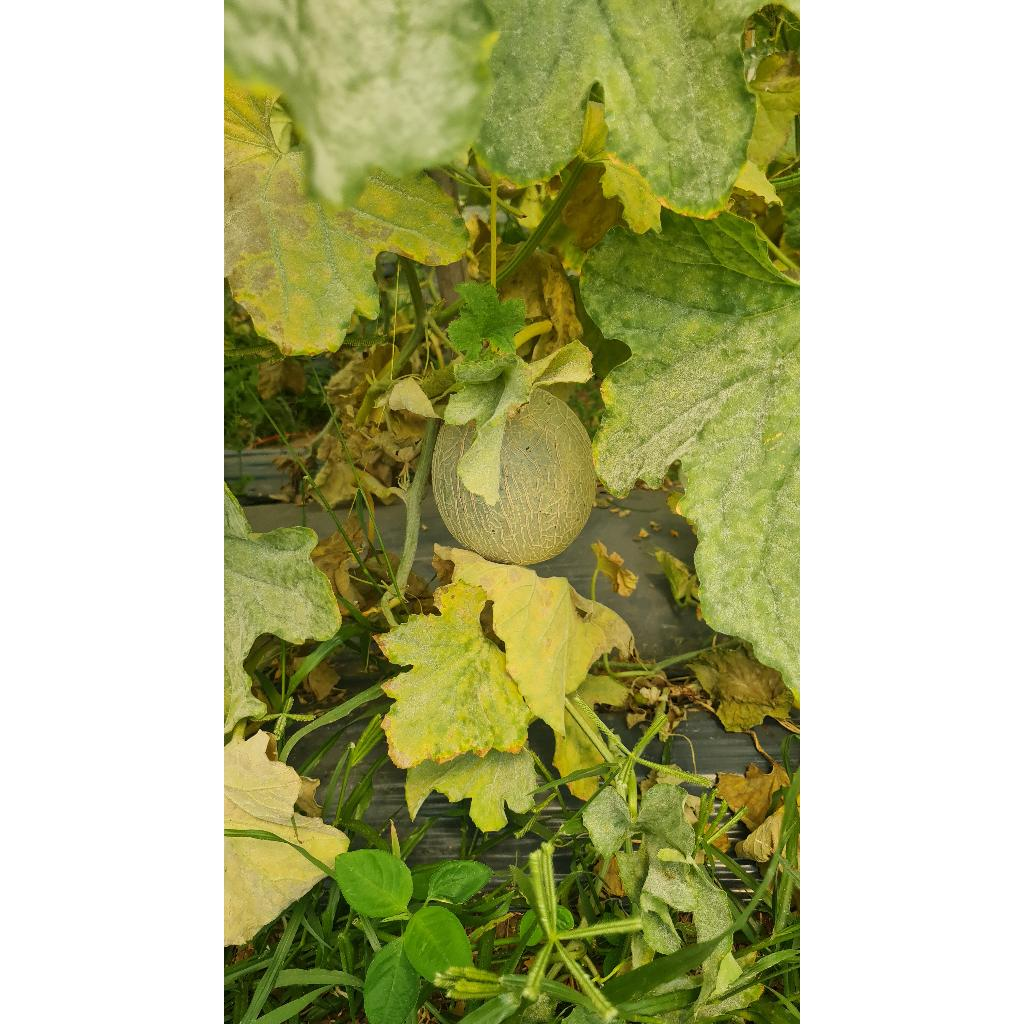melon: (432, 388, 596, 566)
